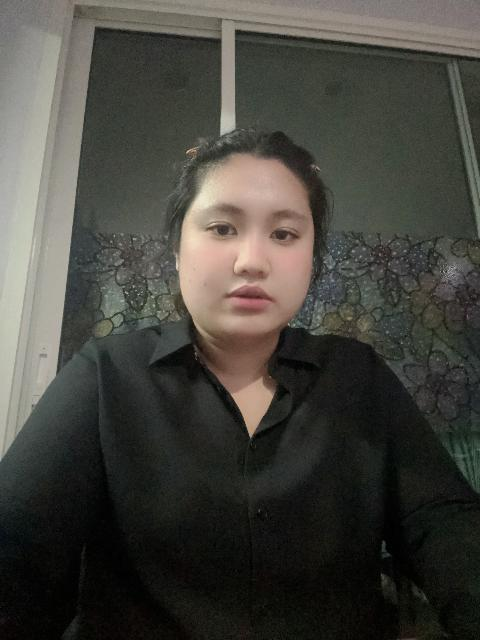fokus: (180, 129, 319, 339)
